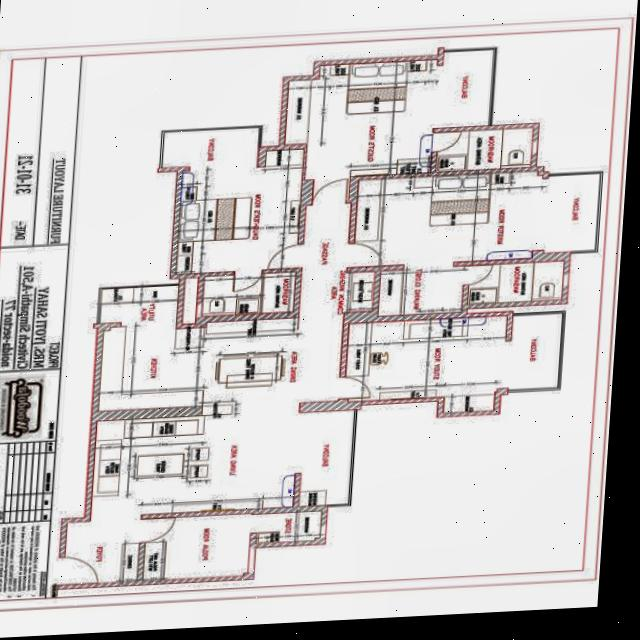room: (280, 49, 501, 183), (86, 409, 356, 516), (347, 167, 603, 268), (339, 312, 565, 416), (160, 125, 309, 275), (59, 506, 325, 585), (95, 285, 206, 412), (194, 316, 347, 407), (375, 266, 466, 317), (433, 127, 533, 172), (199, 272, 297, 317), (465, 261, 565, 305)
